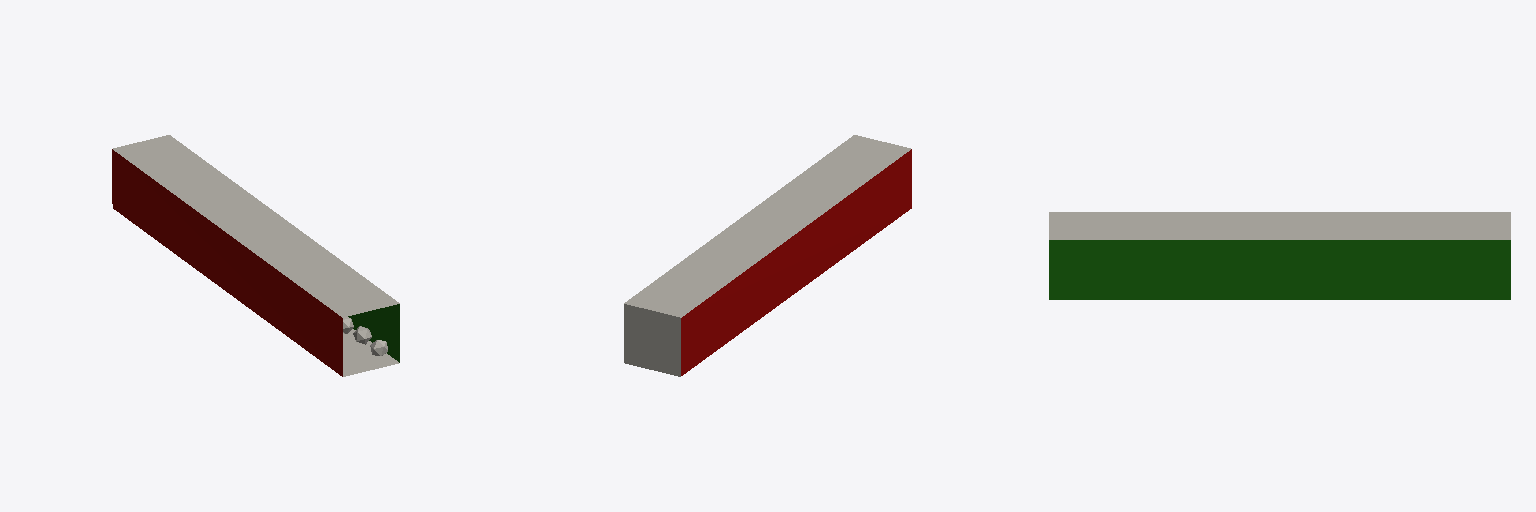
The model's file is CornellBox-DOF.obj.
3 renders of one model, left to right at view 1: azimuth 30°, elevation 25°; view 2: azimuth 150°, elevation 25°; view 3: azimuth 270°, elevation 25°, orthographic.
Visible parts, largest first — view 1: leftWall, ceiling, rightWall, floor, Random_0.1; view 2: leftWall, ceiling, backWall; view 3: rightWall, ceiling.
Part boxes in pixels (x1,y1,x2,y2): leftWall: (112, 149, 342, 376); ceiling: (113, 135, 399, 317); rightWall: (348, 304, 399, 362); floor: (343, 329, 398, 376); Random_0.1: (343, 317, 387, 355); leftWall: (681, 149, 911, 375); ceiling: (624, 135, 910, 317); backWall: (624, 304, 680, 376); rightWall: (1049, 240, 1510, 299); ceiling: (1049, 212, 1510, 239).
Size of the model in its own units: 2.02 by 1.99 by 13.98.